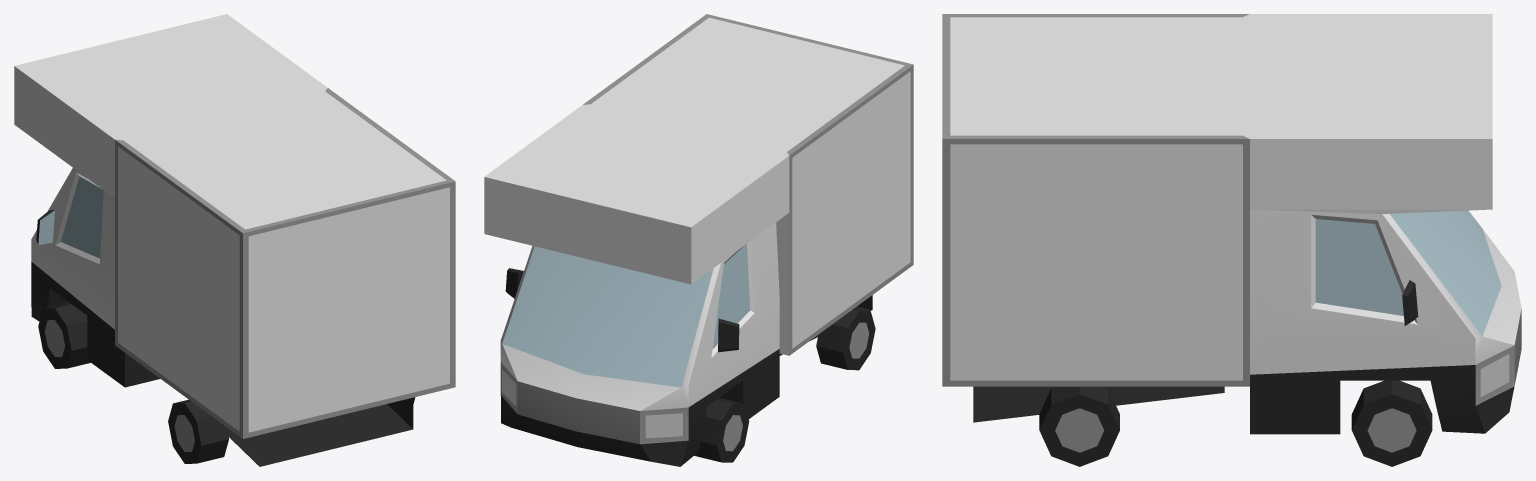
Rendered from camion.fbx.
The picture shows the model from 3 angles, left to right: view 1: azimuth 30°, elevation 25°; view 2: azimuth 150°, elevation 25°; view 3: azimuth 270°, elevation 25°; orthographic projection. The views are drawn at different scales.
Visible parts, largest first — view 1: recto.001; view 2: recto.001; view 3: recto.001.
Part boxes in pixels (<box>): recto.001: <box>14,14,455,466</box>; recto.001: <box>484,14,913,466</box>; recto.001: <box>942,14,1521,466</box>.
Bounding box in the file's own units: 0.3578 × 0.3914 × 0.6275.
